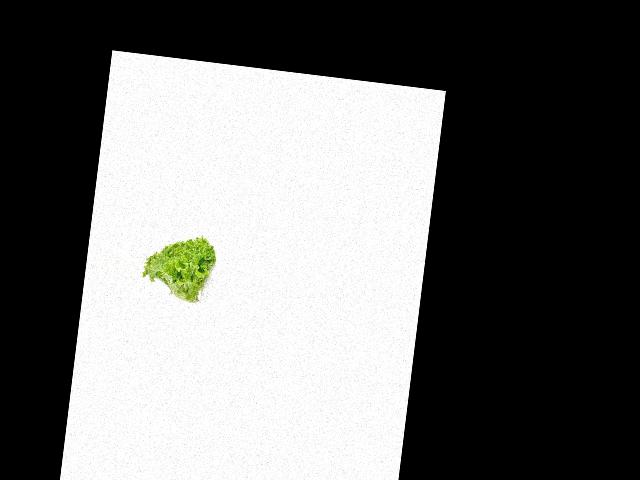lettuce: (136, 225, 219, 309)
